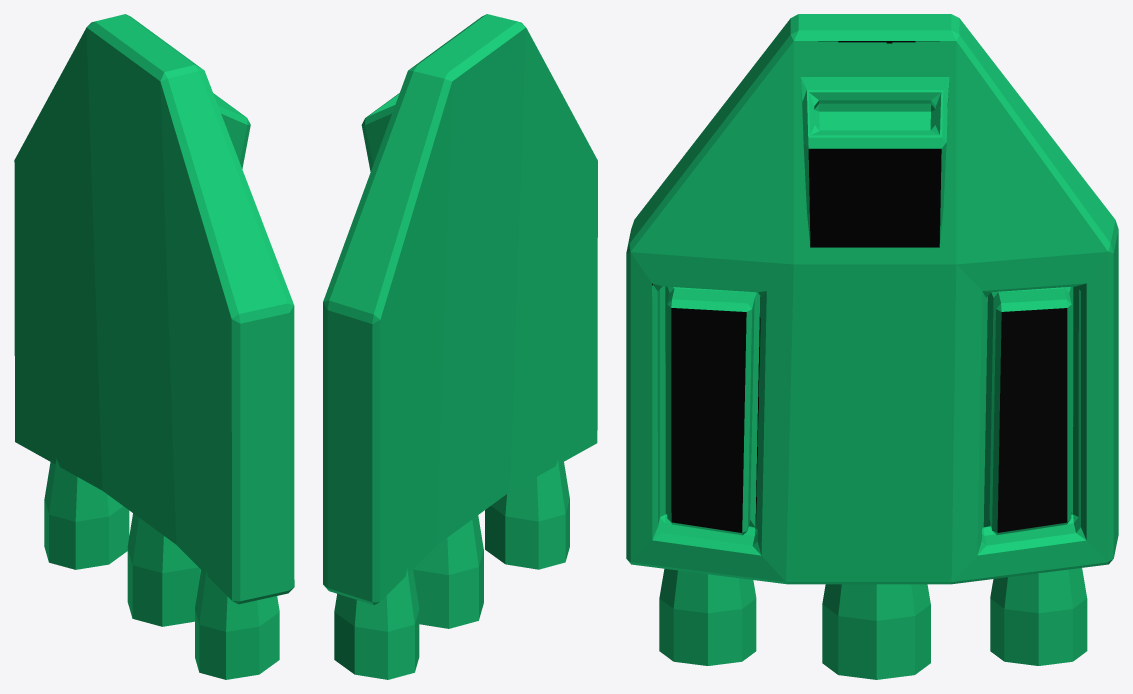
Rendered from GreenShip52.fbx.
3 views of the same model, side by side, from view 1: azimuth 30°, elevation 25°; view 2: azimuth 150°, elevation 25°; view 3: azimuth 270°, elevation 25° (orthographic). The views are drawn at different scales.
Visible parts, largest first — view 1: Circle.005; view 2: Circle.005; view 3: Circle.005.
Part boxes in pixels (x1=…): Circle.005: x1=14, y1=14, x2=294, y2=679; Circle.005: x1=323, y1=14, x2=597, y2=679; Circle.005: x1=626, y1=14, x2=1118, y2=679.
Bounding box in the file's own units: 31.37 × 177 × 125.
